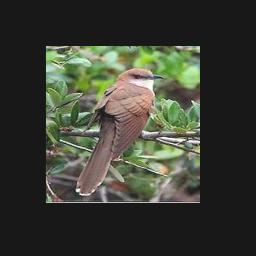Cuckoo: (76, 68, 164, 195)
